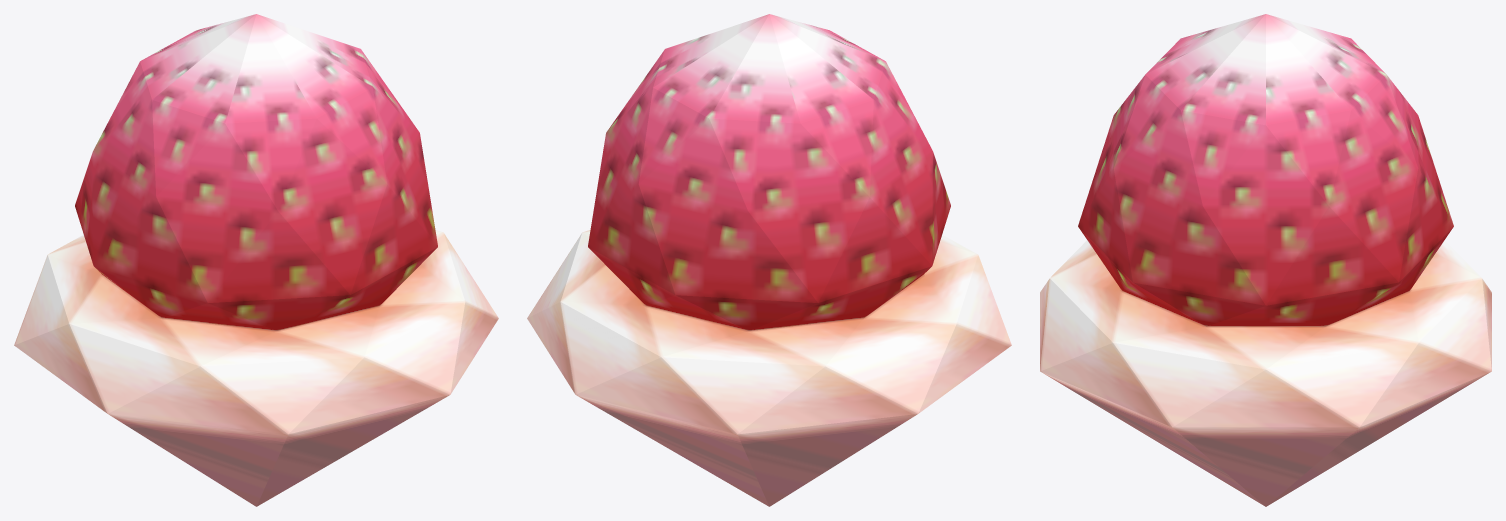
The model's file is mini_stage4-berry.glb.
3 views of the same model, side by side, from view 1: azimuth 30°, elevation 25°; view 2: azimuth 150°, elevation 25°; view 3: azimuth 270°, elevation 25° (orthographic).
Visible parts, largest first — view 1: berry; view 2: berry; view 3: berry.
Boxes of the visible parts, x1,y1,x2,y2 form: berry: (14,14,498,506); berry: (527,14,1011,506); berry: (1040,14,1491,506).
Size of the model in its own units: 1.2 by 1.44 by 1.2.
Materials: 1 (1 with a texture image).
